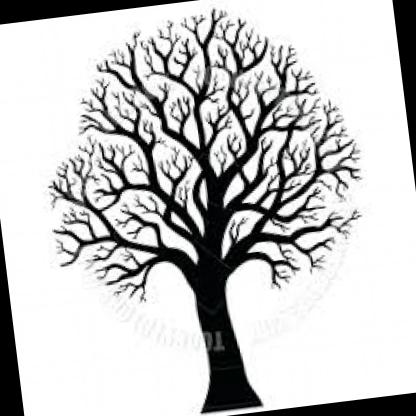branch_sharp: (22, 0, 380, 314)
trunk_straight: (193, 309, 254, 383)
